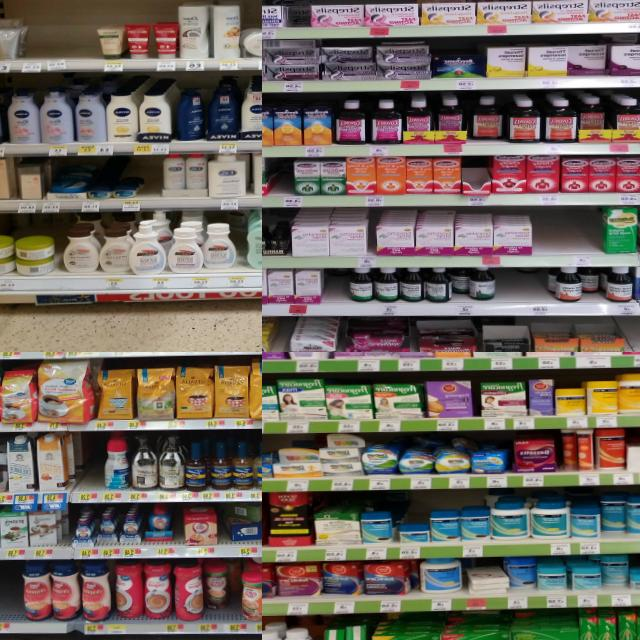100- O.O.S: (532, 206, 601, 266), (46, 12, 98, 72), (498, 274, 540, 314), (80, 436, 102, 501), (0, 561, 20, 632), (24, 13, 46, 72), (142, 157, 162, 210), (271, 160, 293, 206), (327, 274, 346, 314)
